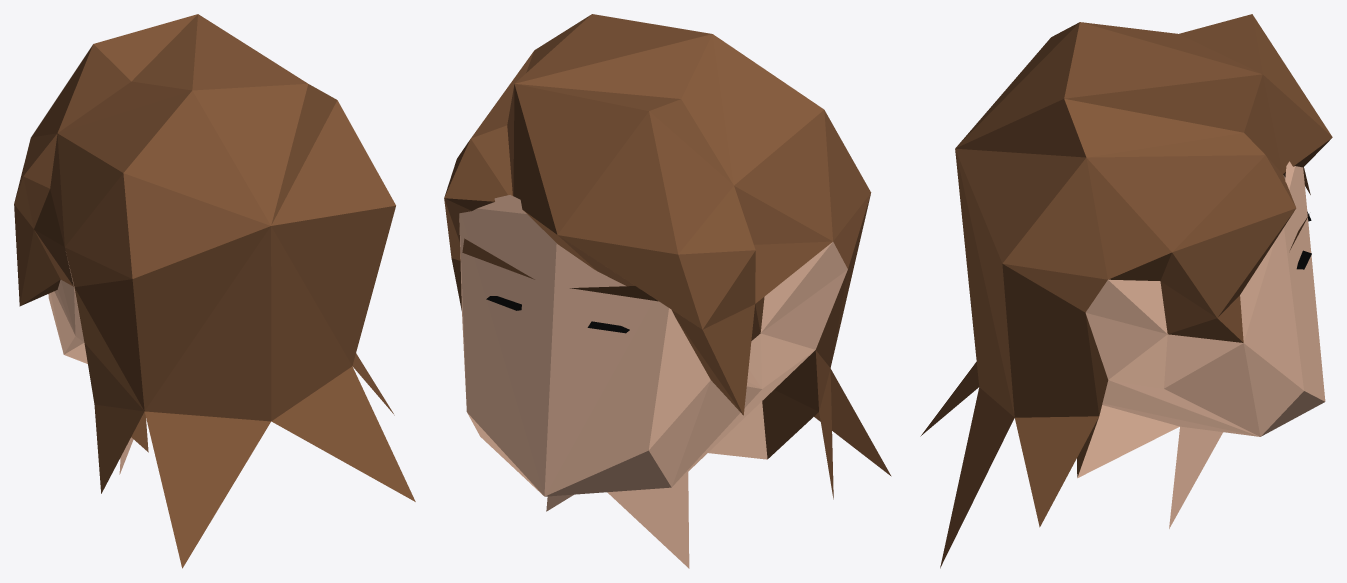
The model's file is Head.obj.
The picture shows the model from 3 angles, left to right: view 1: azimuth 30°, elevation 25°; view 2: azimuth 150°, elevation 25°; view 3: azimuth 270°, elevation 25°; orthographic projection. The views are drawn at different scales.
Bounding box in the file's own units: 0.2868 × 0.3751 × 0.3014.
Materials: 1 (1 with a texture image).
